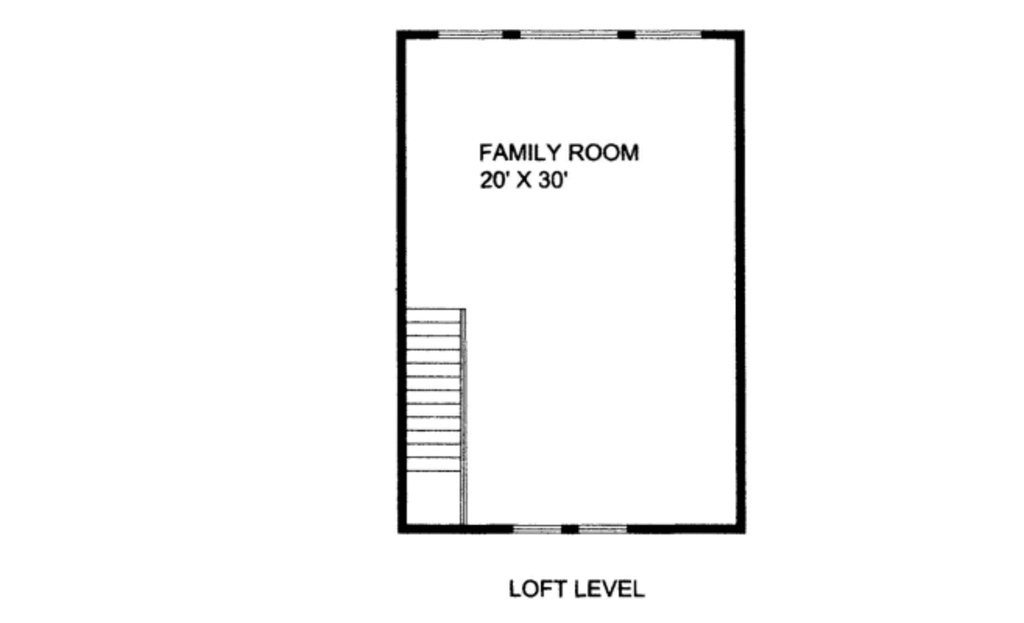stairs: (397, 305, 469, 524)
window: (518, 21, 620, 42), (430, 25, 504, 40), (576, 520, 625, 539), (508, 519, 560, 535), (633, 26, 700, 38)
